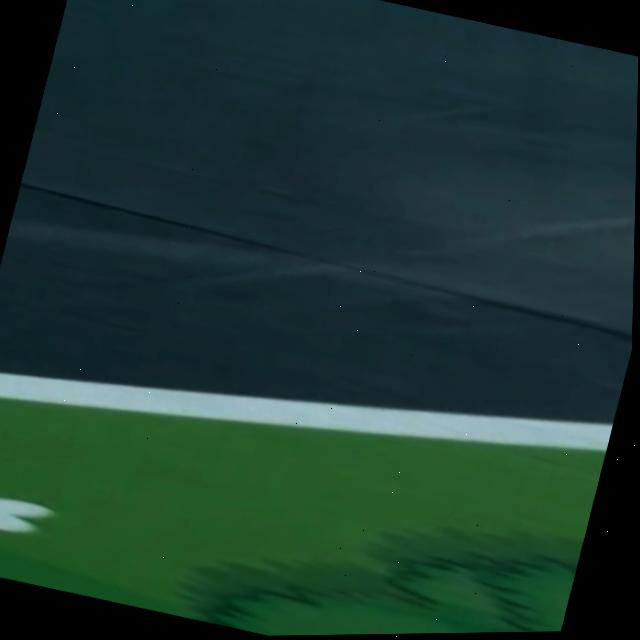right: (0, 372, 613, 450)
